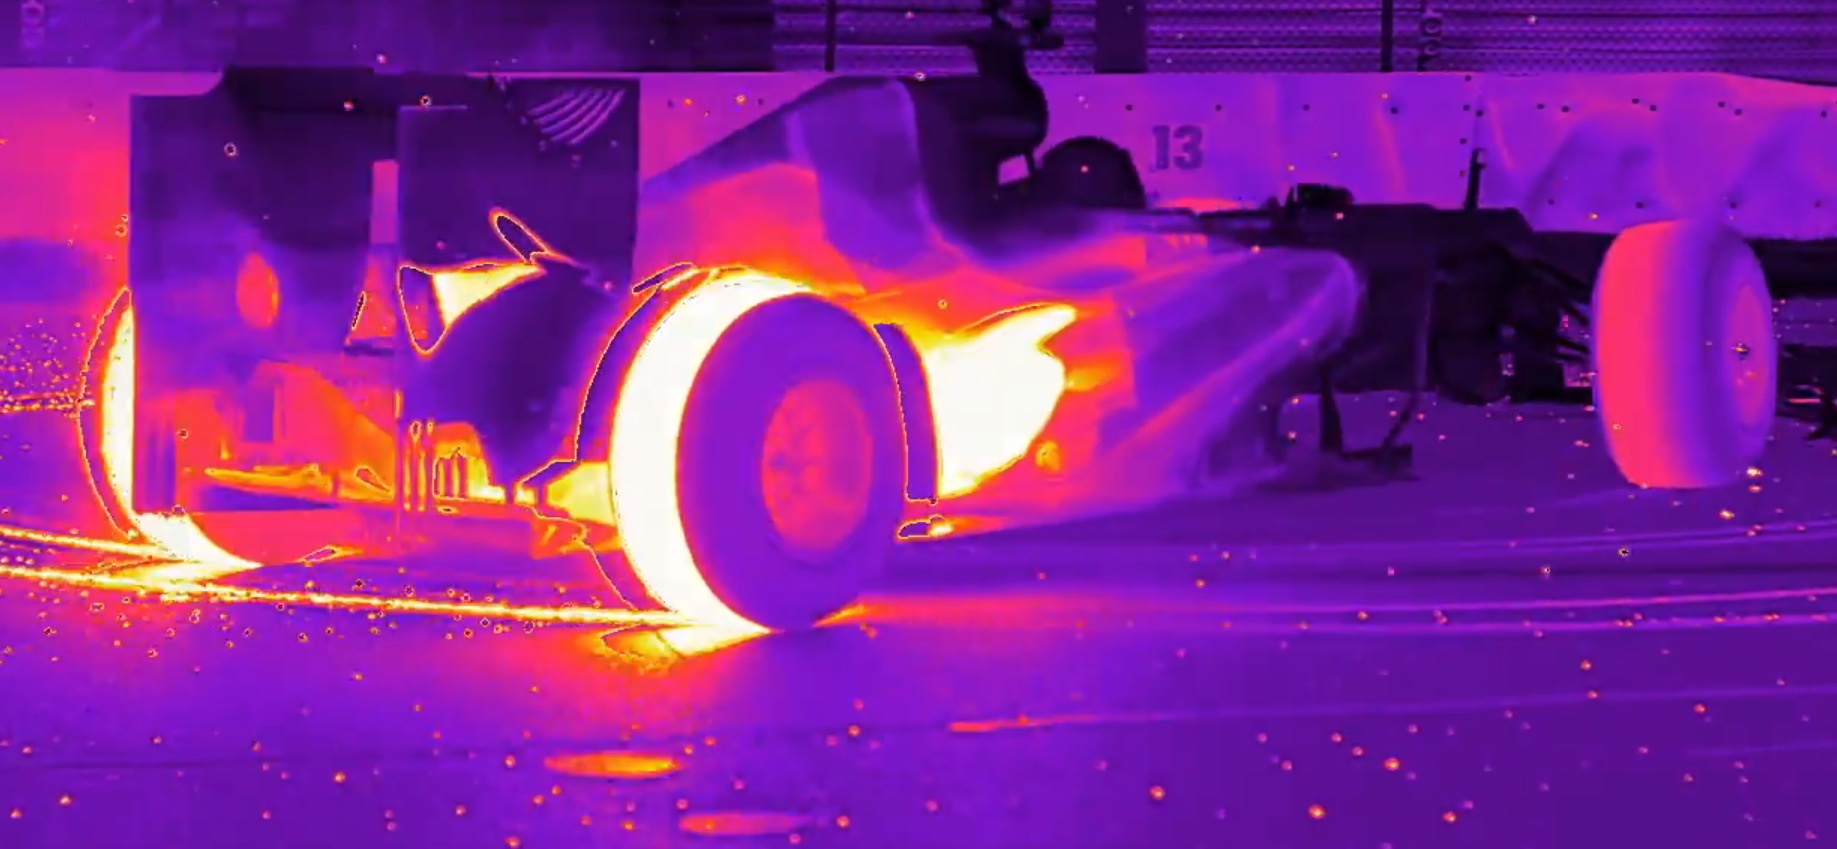car: (50, 26, 1807, 586)
